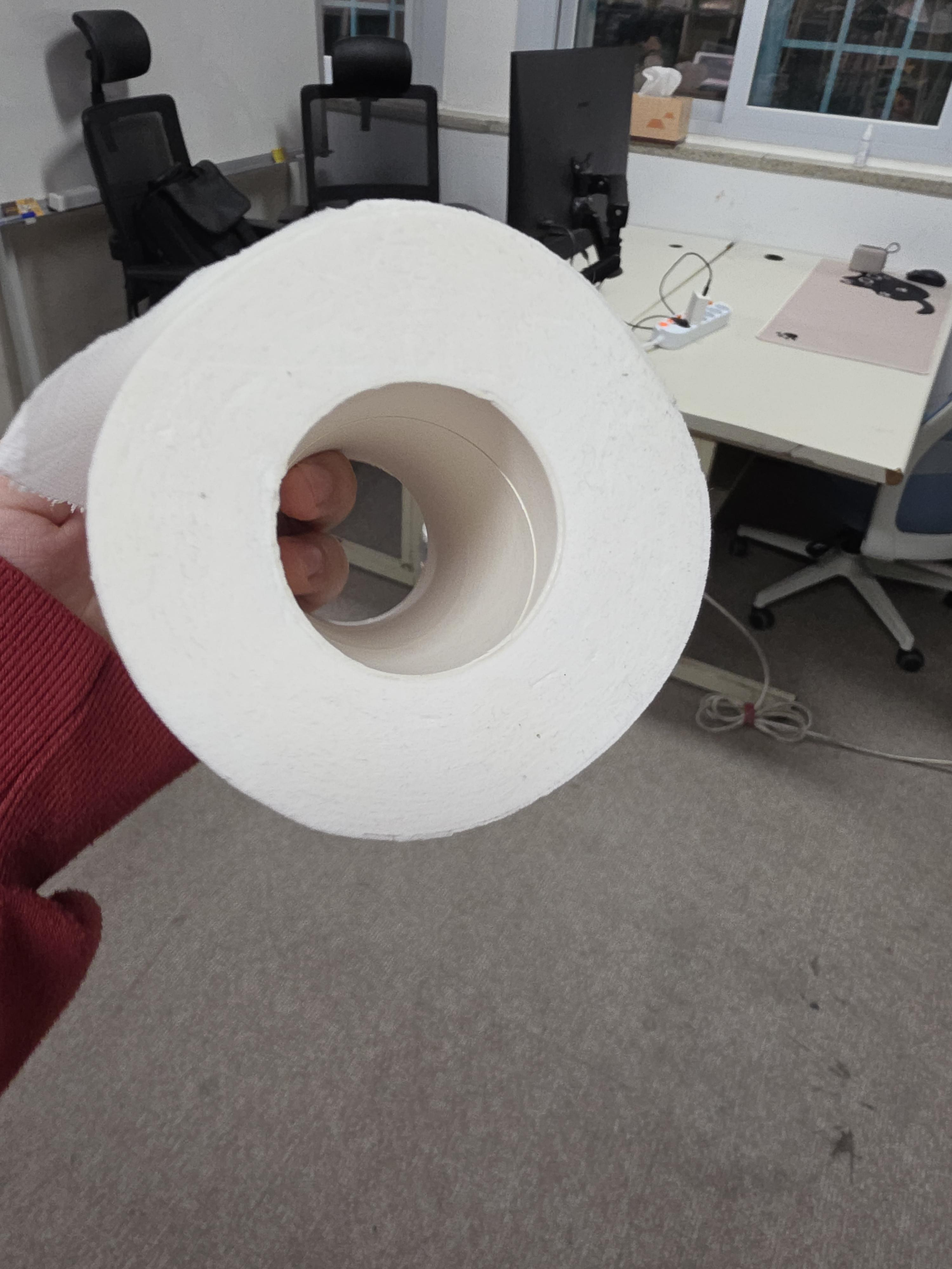tissue: (0, 198, 712, 843), (630, 65, 693, 144)
